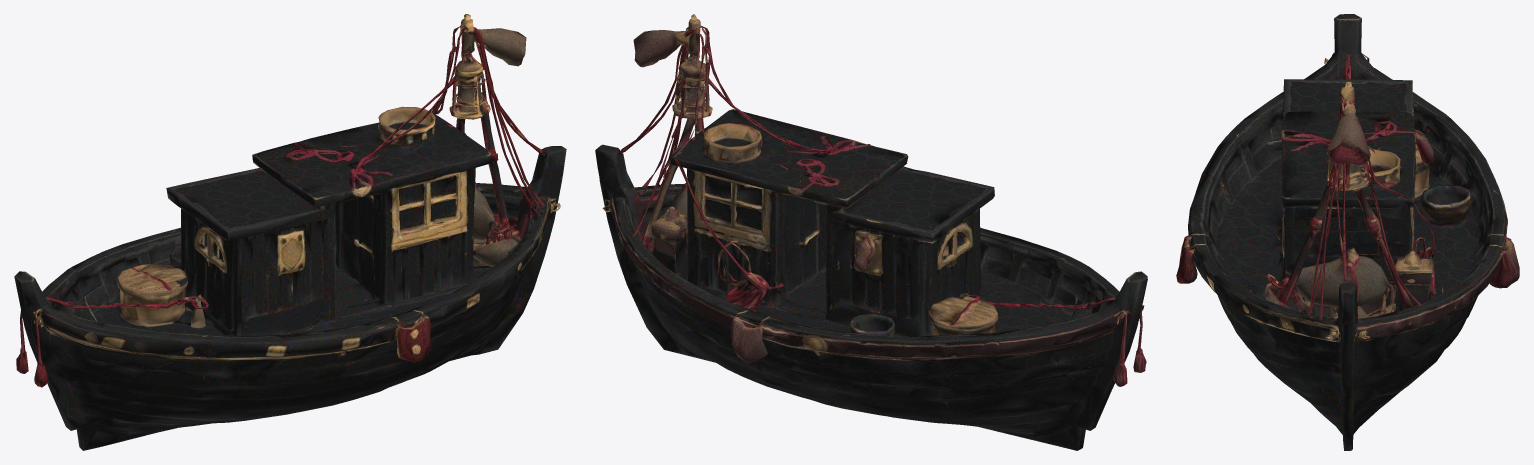
File: ironcrownFishingBoat.a5de94eb.glb
3 renders of one model, left to right at view 1: azimuth 30°, elevation 25°; view 2: azimuth 150°, elevation 25°; view 3: azimuth 270°, elevation 25°, orthographic. The views are drawn at different scales.
Bounding box in the file's own units: 1.9 × 1.13 × 0.9942.
1 material, 1 textured.
